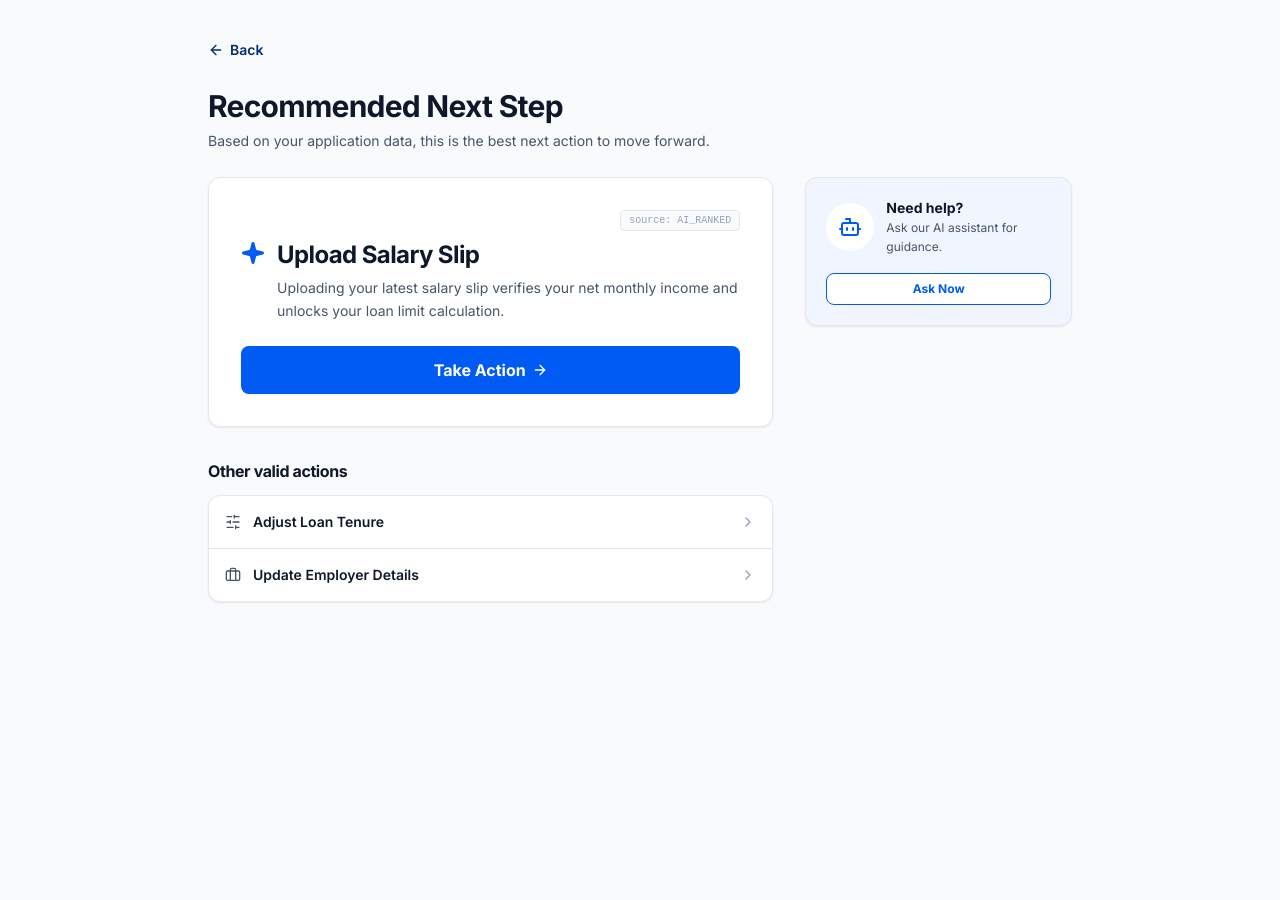
Screen05Recommendation (F16) › opens the FormActionModal (not the act/:actionId screen) when a FORM-kind alternative is selected
This screenshot has width=1280, height=900.
Expected: the text "Adjust Loan Tenure" is shown, [253,512,384,532]
Click the button with aria-label "Select alternative action: Adjust Loan Tenure" at (318, 522), box [225,513,756,530]
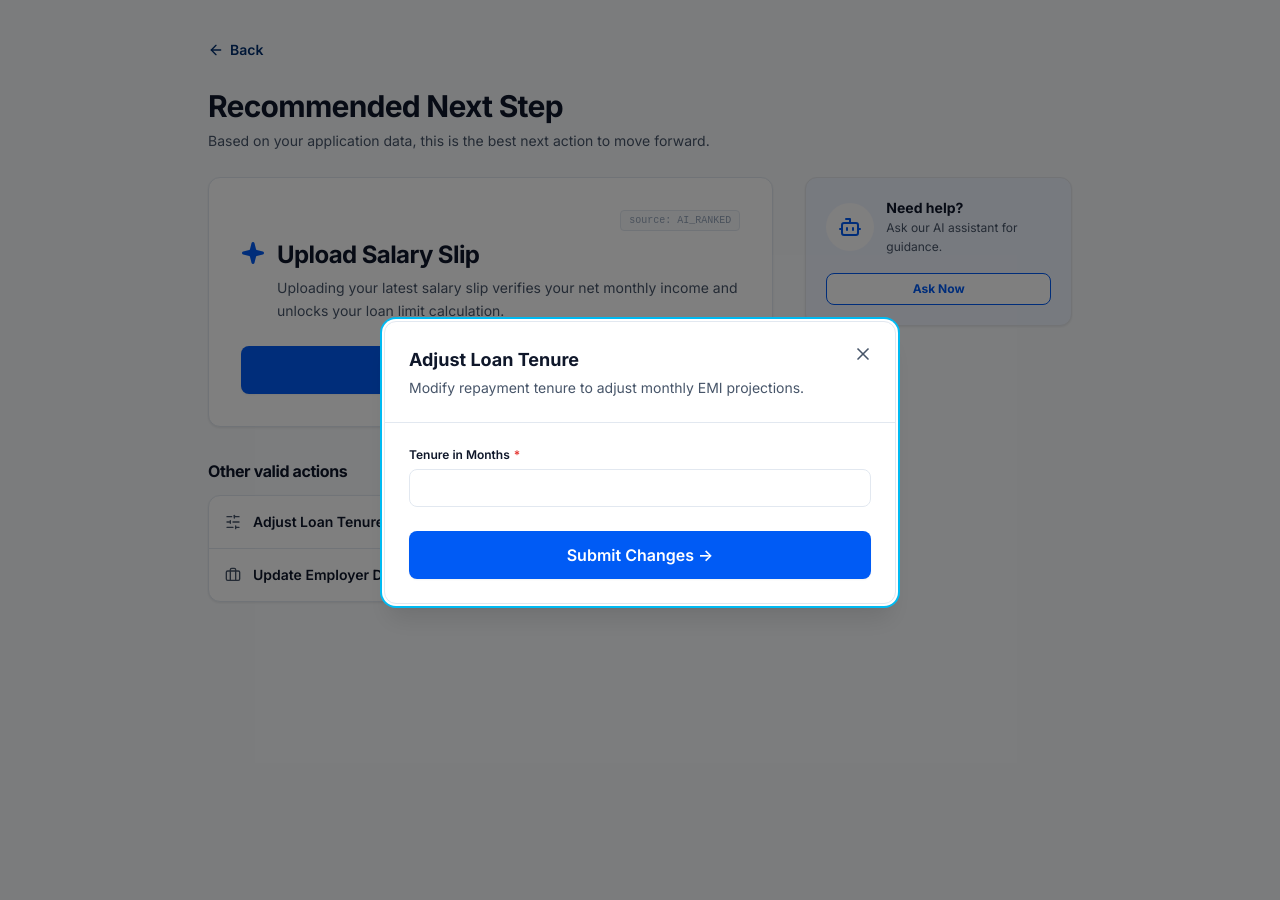
Now the dialog is shown, box [384,320,896,604]
Now the number field labelled "Tenure in Months*" is shown, box [409,468,871,506]
